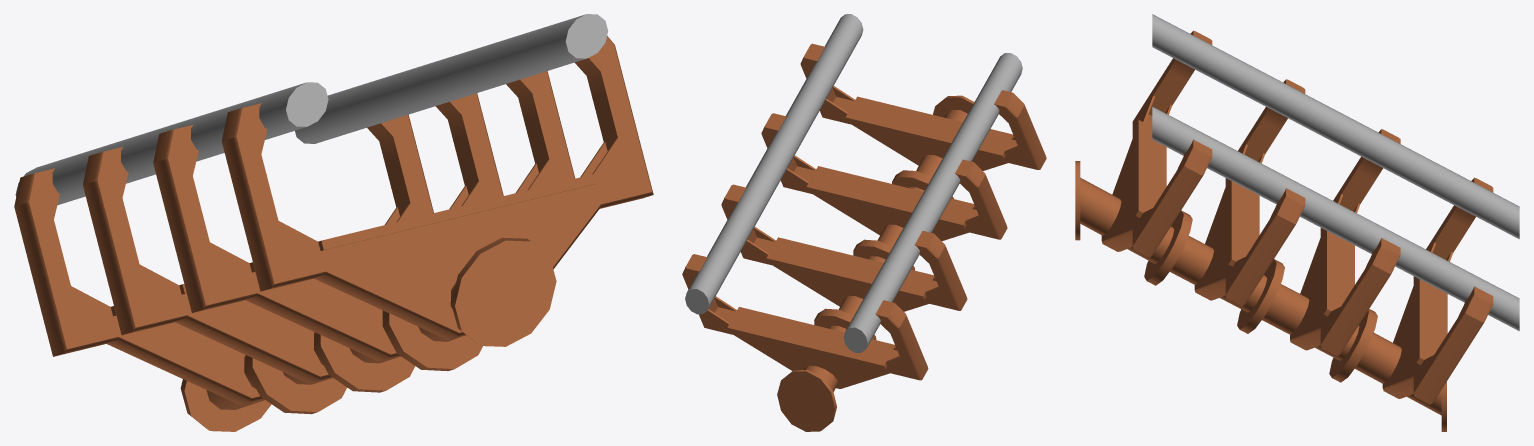
File: rail pente.fbx
The picture shows the model from 3 angles, left to right: view 1: azimuth 30°, elevation 25°; view 2: azimuth 150°, elevation 25°; view 3: azimuth 270°, elevation 25°; orthographic projection. The views are drawn at different scales.
Parts seen in each view (by area): view 1: polySurface45; view 2: polySurface45; view 3: polySurface45.
Boxes of the visible parts, x1=… form: polySurface45: x1=14, y1=14, x2=653, y2=431; polySurface45: x1=682, y1=14, x2=1046, y2=431; polySurface45: x1=1075, y1=14, x2=1519, y2=431.
Size of the model in its own units: 7.24 by 9.8 by 10.78.
